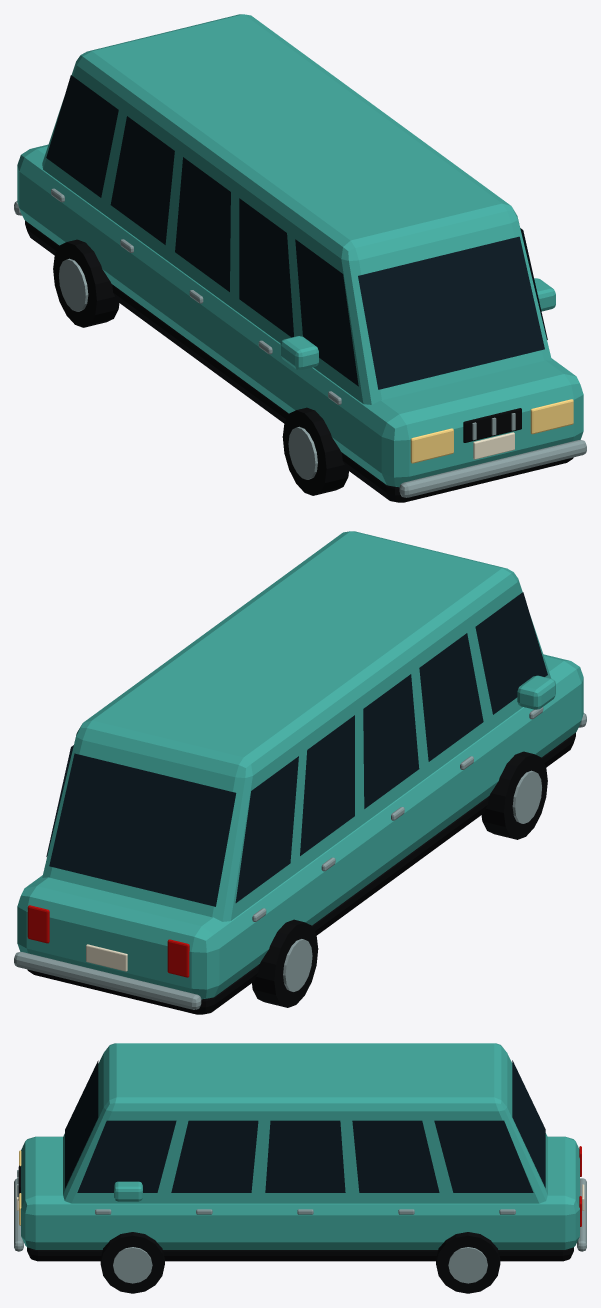
Rendered from HNP_Minibus_v003.fbx.
The picture shows the model from 3 angles, top to bottom: view 1: azimuth 30°, elevation 25°; view 2: azimuth 150°, elevation 25°; view 3: azimuth 270°, elevation 25°; orthographic projection. The views are drawn at different scales.
Parts seen in each view (by area): view 1: HNP_Minibus_v003_HNP3_Body, HNP_Minibus_v003_HNP3_Atlas, Wheel_-1_2.04, Wheel_-1_-2.04, WheelRim, WheelRim.001; view 2: HNP_Minibus_v003_HNP3_Body, HNP_Minibus_v003_HNP3_Atlas, Wheel_-1_-2.04, Wheel_-1_2.04, WheelRim.001, WheelRim; view 3: HNP_Minibus_v003_HNP3_Body, HNP_Minibus_v003_HNP3_Atlas, Wheel_1_-2.04, Wheel_1_2.04, WheelRim.002, WheelRim.003.
Boxes of the visible parts, bbox=[...] form: HNP_Minibus_v003_HNP3_Body: bbox=[17, 14, 583, 487]; HNP_Minibus_v003_HNP3_Atlas: bbox=[14, 75, 586, 502]; Wheel_-1_2.04: bbox=[282, 407, 348, 495]; Wheel_-1_-2.04: bbox=[53, 239, 119, 327]; WheelRim: bbox=[59, 258, 88, 311]; WheelRim.001: bbox=[288, 426, 317, 479]; HNP_Minibus_v003_HNP3_Body: bbox=[17, 531, 583, 999]; HNP_Minibus_v003_HNP3_Atlas: bbox=[14, 592, 586, 1014]; Wheel_-1_-2.04: bbox=[252, 919, 318, 1007]; Wheel_-1_2.04: bbox=[481, 751, 547, 839]; WheelRim.001: bbox=[512, 770, 541, 823]; WheelRim: bbox=[283, 939, 312, 991]; HNP_Minibus_v003_HNP3_Body: bbox=[21, 1043, 579, 1249]; HNP_Minibus_v003_HNP3_Atlas: bbox=[14, 1060, 586, 1261]; Wheel_1_-2.04: bbox=[436, 1232, 500, 1293]; Wheel_1_2.04: bbox=[100, 1232, 164, 1293]; WheelRim.002: bbox=[448, 1247, 487, 1283]; WheelRim.003: bbox=[113, 1247, 152, 1283].
Size of the model in its own units: 267 by 247 by 697.
